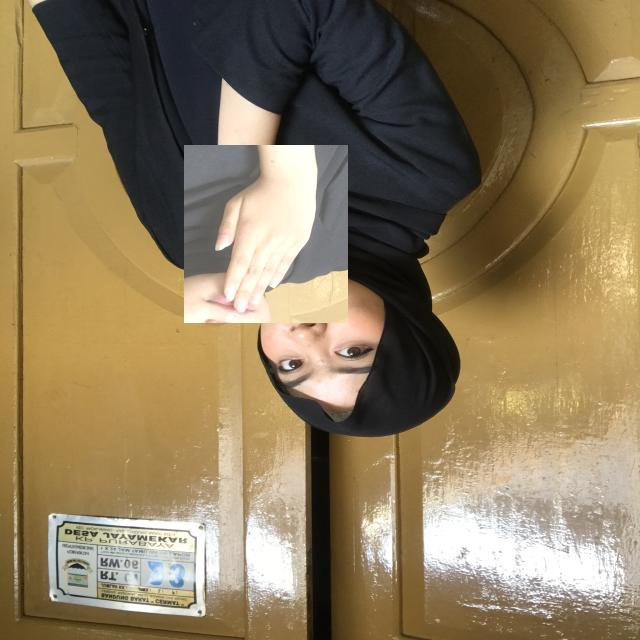ganteng: (184, 145, 348, 323)
